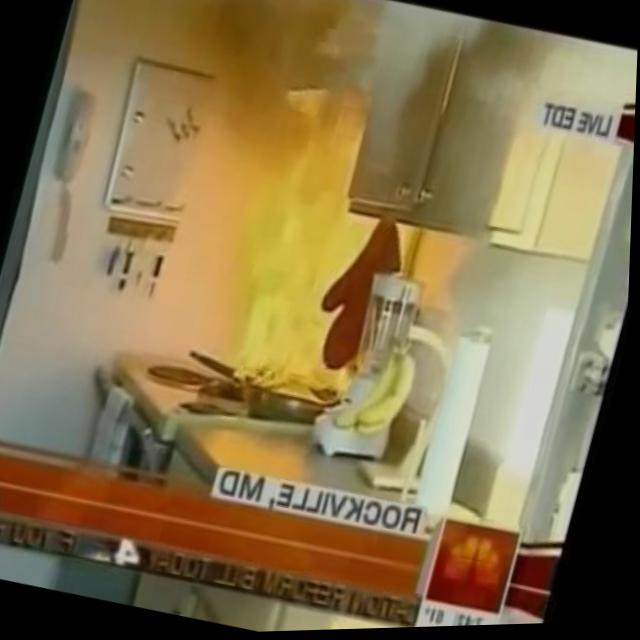fire: (212, 75, 445, 415)
